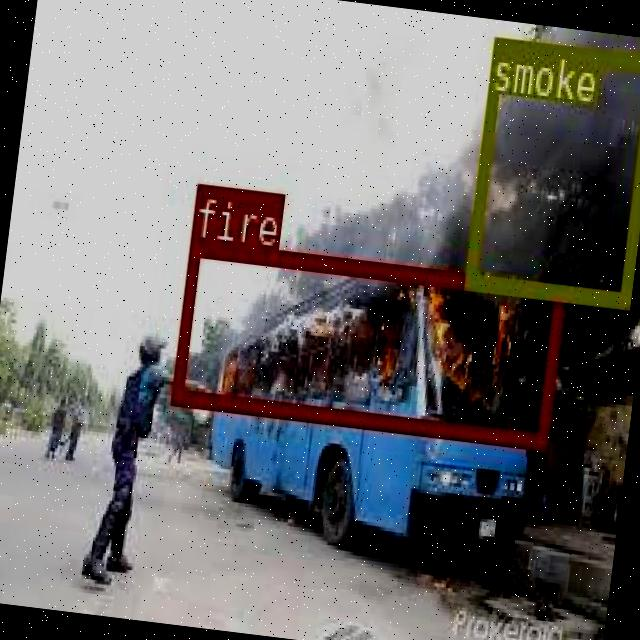fire: (168, 237, 562, 448)
smoke: (463, 35, 640, 305)
